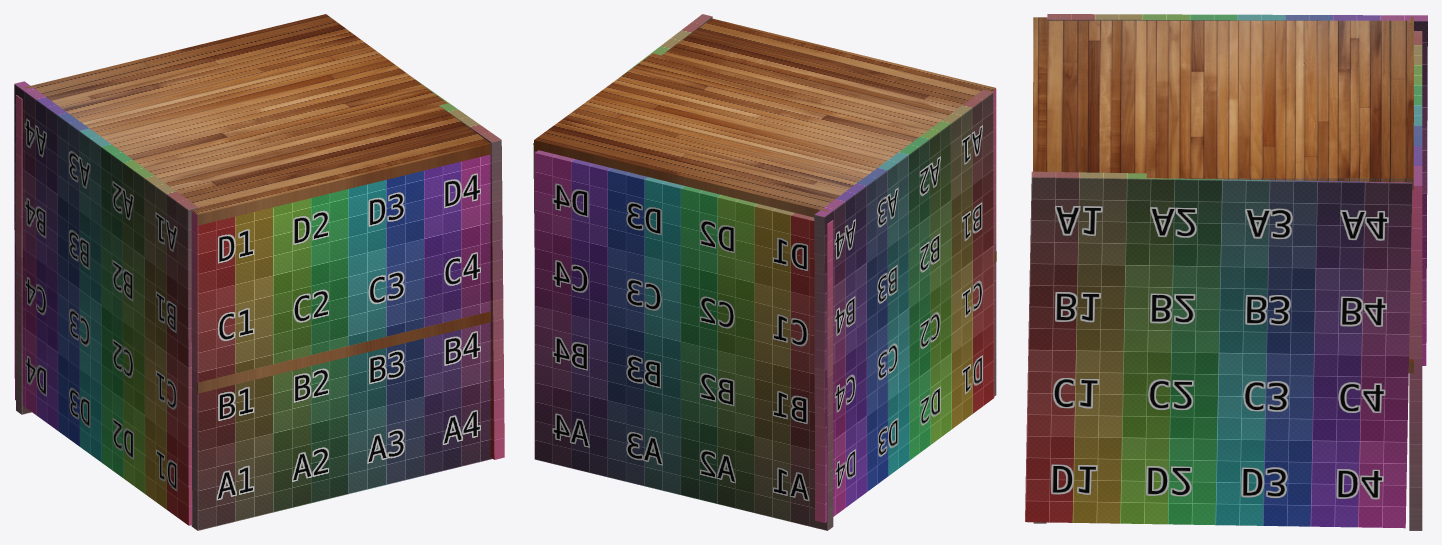
File: pingpong_table_texture8.gltf
3 renders of one model, left to right at view 1: azimuth 30°, elevation 25°; view 2: azimuth 150°, elevation 25°; view 3: azimuth 270°, elevation 25°, orthographic. The views are drawn at different scales.
Visible parts, largest first — view 1: Plane.012, Plane.011, Plane.015, Plane.013, Plane.014, Plane.016; view 2: Plane.016, Plane.011, Plane.015, Plane.012, Plane.013; view 3: Plane.013, Plane.015, Plane.016, Plane.011.
Part boxes in pixels (x1,y1,x2,y2): Plane.012: [191, 154, 492, 530]; Plane.011: [14, 81, 198, 525]; Plane.015: [25, 14, 490, 225]; Plane.013: [415, 79, 504, 459]; Plane.014: [194, 311, 490, 393]; Plane.016: [16, 95, 31, 414]; Plane.016: [534, 150, 833, 530]; Plane.011: [814, 89, 994, 522]; Plane.015: [534, 18, 995, 217]; Plane.012: [992, 89, 996, 396]; Plane.013: [533, 14, 712, 246]; Plane.013: [1025, 171, 1412, 528]; Plane.015: [1033, 17, 1413, 189]; Plane.016: [1409, 31, 1422, 530]; Plane.011: [1047, 14, 1427, 365].
Bounding box in the file's own units: 39.57 × 40.15 × 41.07.
